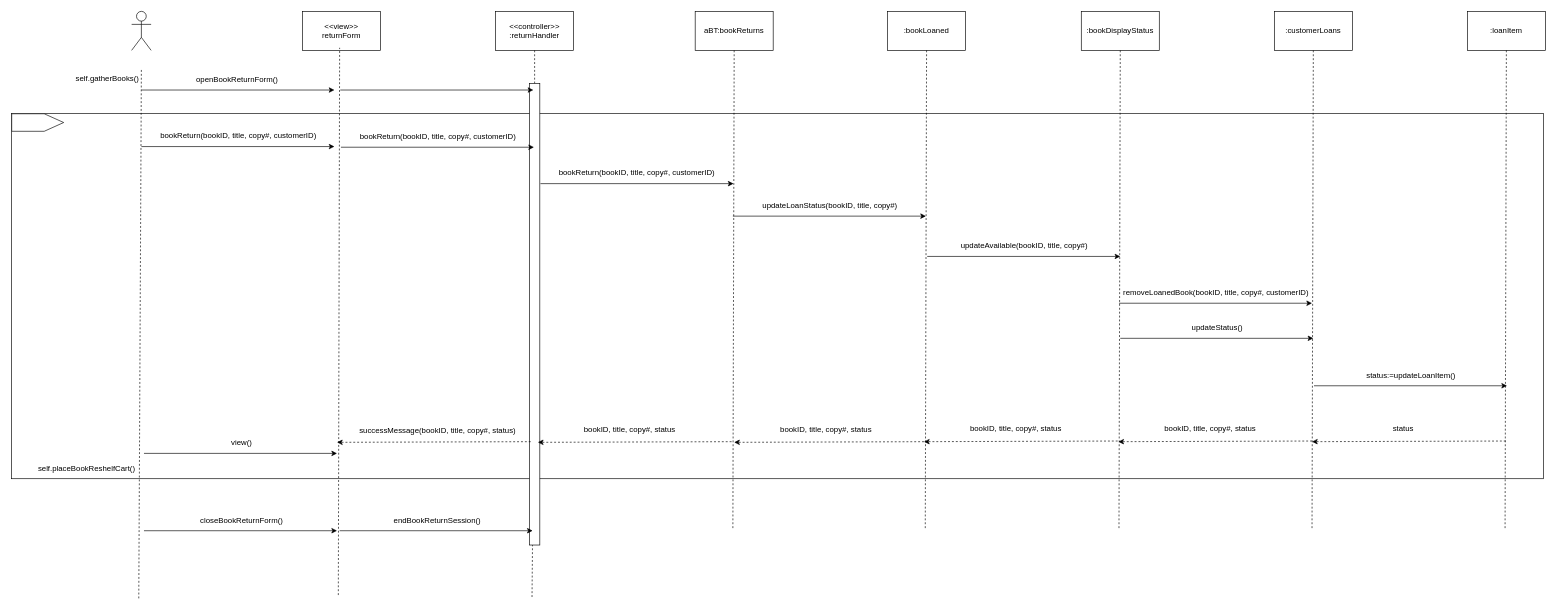
The diagram is 1557 pixels wide and 611 high, and some of its shapes have lost their labels. Each missing label, with the centre of its shape:
Library Employee: point (141, 30)
Loop: point (37, 122)
